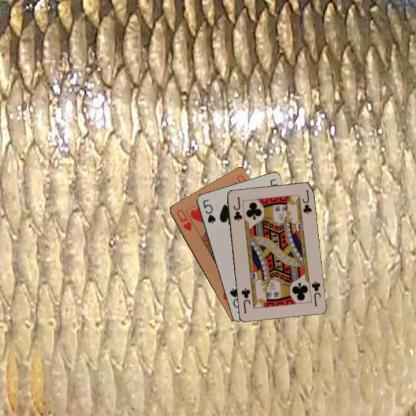5s: (200, 196, 217, 225)
Jc: (308, 278, 322, 308), (231, 194, 243, 222)
Qh: (174, 207, 193, 232)
